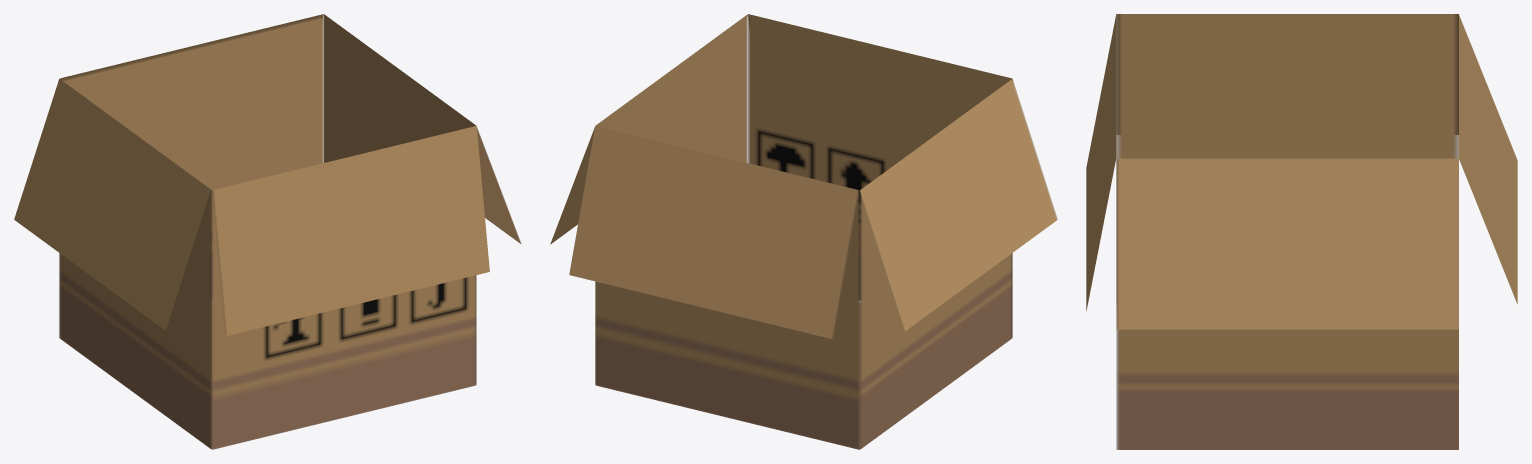
Rendered from cuboidOpened.glb.
3 views of the same model, side by side, from view 1: azimuth 30°, elevation 25°; view 2: azimuth 150°, elevation 25°; view 3: azimuth 270°, elevation 25° (orthographic). The views are drawn at different scales.
Visible parts, largest first — view 1: plane; view 2: plane; view 3: plane.
Boxes of the visible parts, x1=… form: plane: x1=14, y1=14, x2=521, y2=449; plane: x1=550, y1=14, x2=1057, y2=449; plane: x1=1086, y1=14, x2=1517, y2=449.
Bounding box in the file's own units: 1.34 × 0.9375 × 1.26.
Materials: 1 (1 with a texture image).
